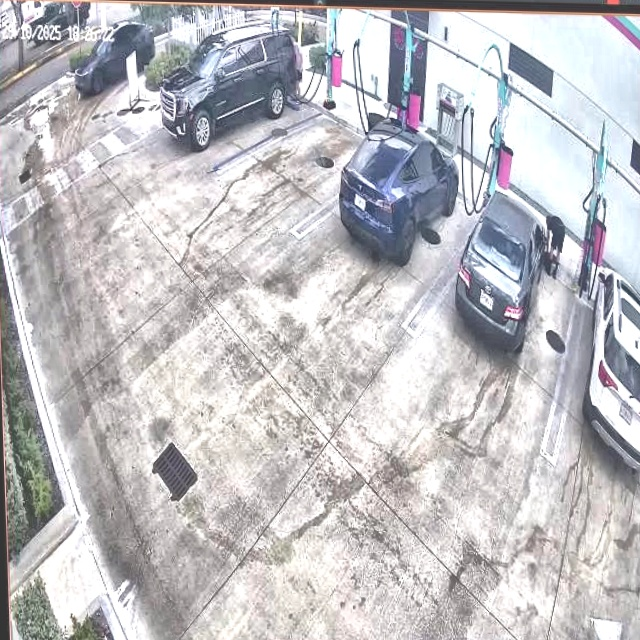Car: (339, 117, 459, 267), (453, 189, 550, 356)
